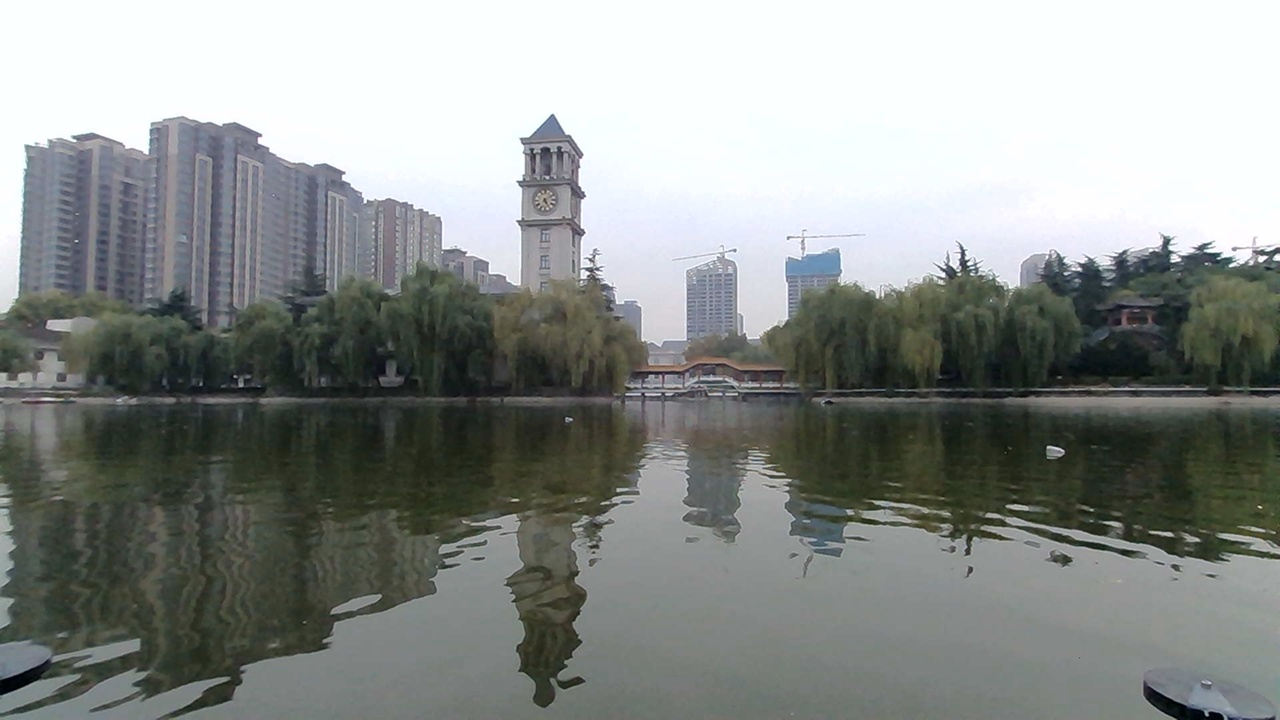bottle: (1040, 441, 1072, 462)
